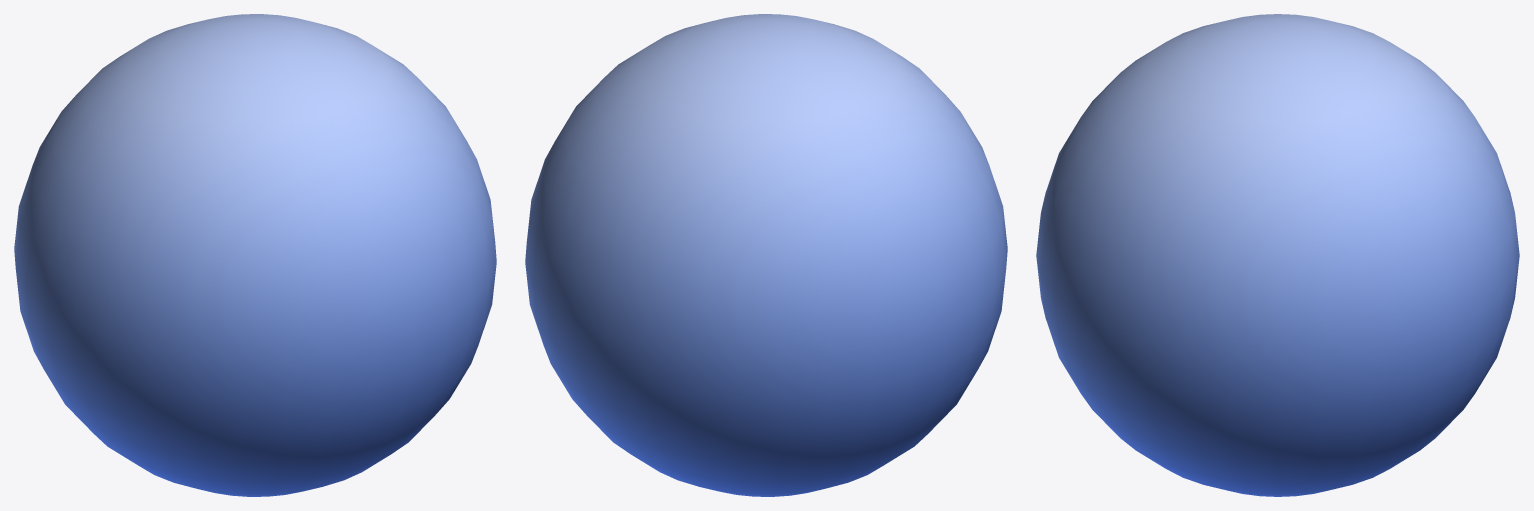
File: stage_2_tapdance_final.fbx
3 renders of one model, left to right at view 1: azimuth 30°, elevation 25°; view 2: azimuth 150°, elevation 25°; view 3: azimuth 270°, elevation 25°, orthographic.
Visible parts, largest first — view 1: stage2_background_wall; view 2: stage2_background_wall; view 3: stage2_background_wall.
Part boxes in pixels (bbox=[...]): stage2_background_wall: bbox=[14, 14, 496, 496]; stage2_background_wall: bbox=[525, 14, 1007, 496]; stage2_background_wall: bbox=[1036, 14, 1519, 496].
Size of the model in its own units: 4000 by 4000 by 4000.
